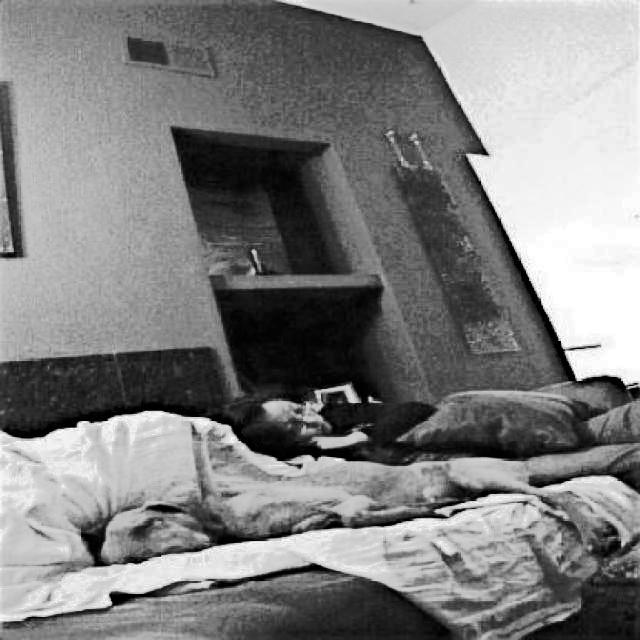Dog: (96, 450, 627, 598)
Person: (225, 388, 433, 467)
